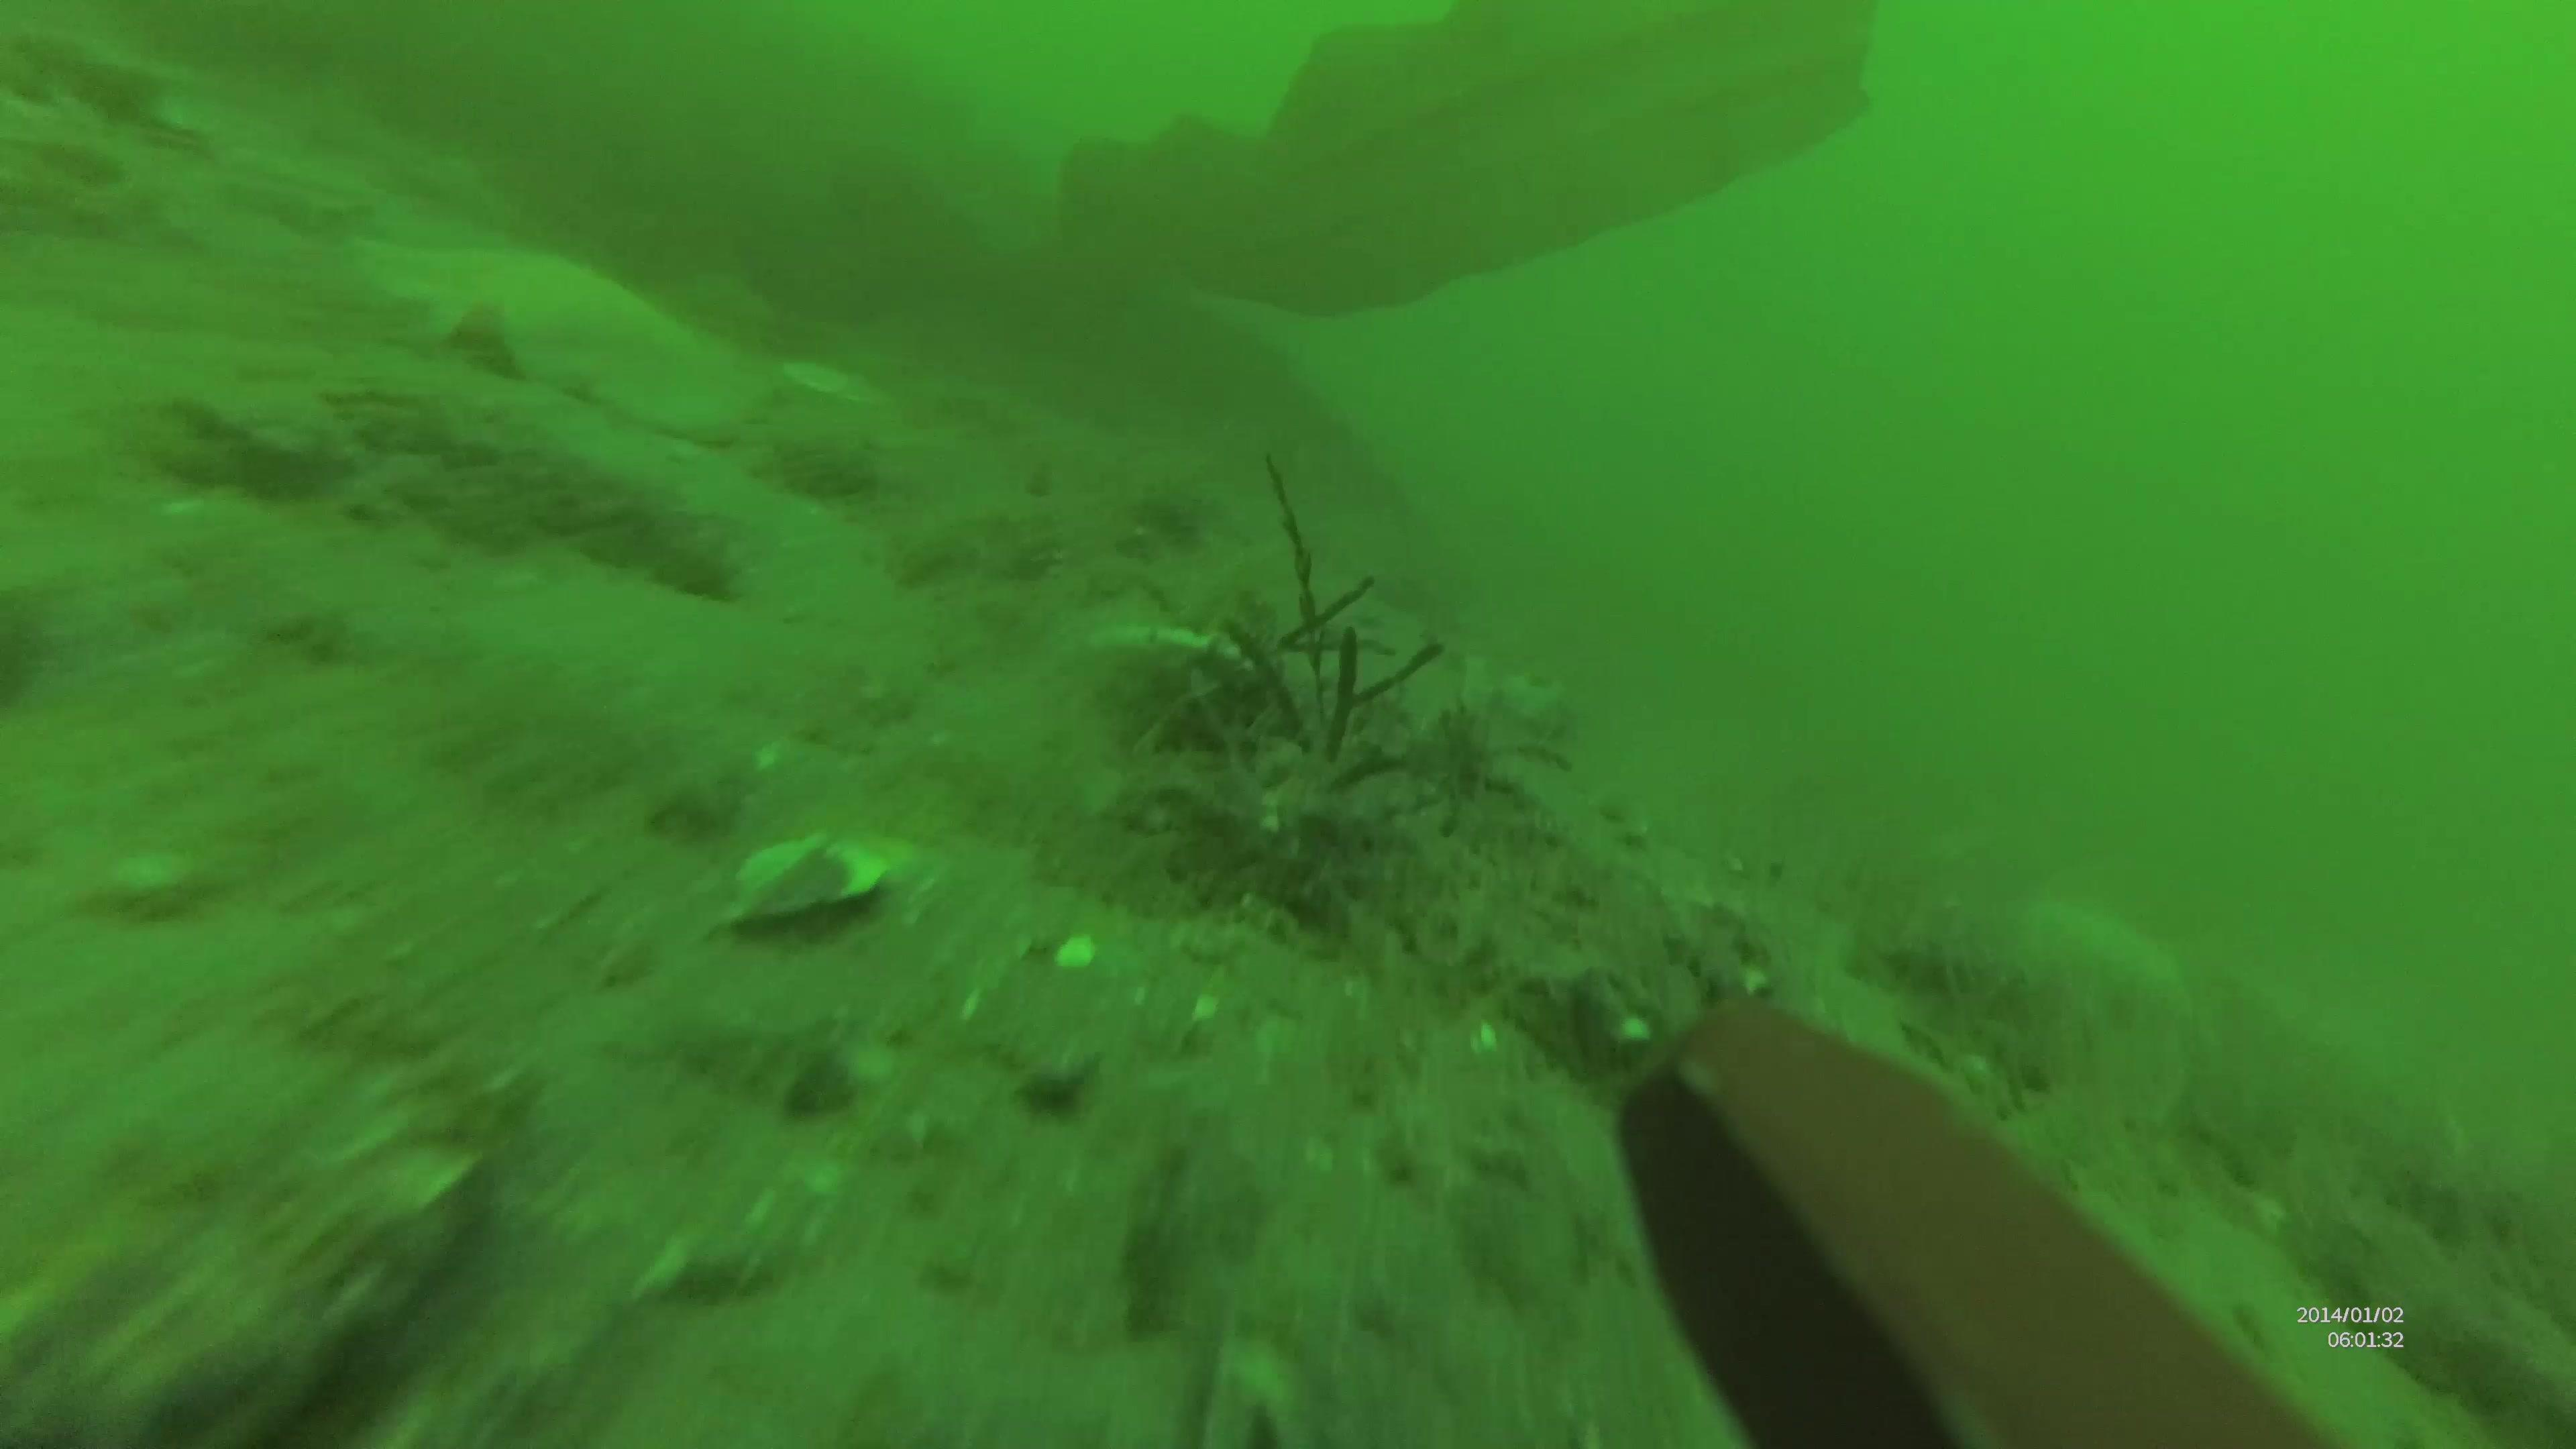starfish: (364, 219, 759, 439)
